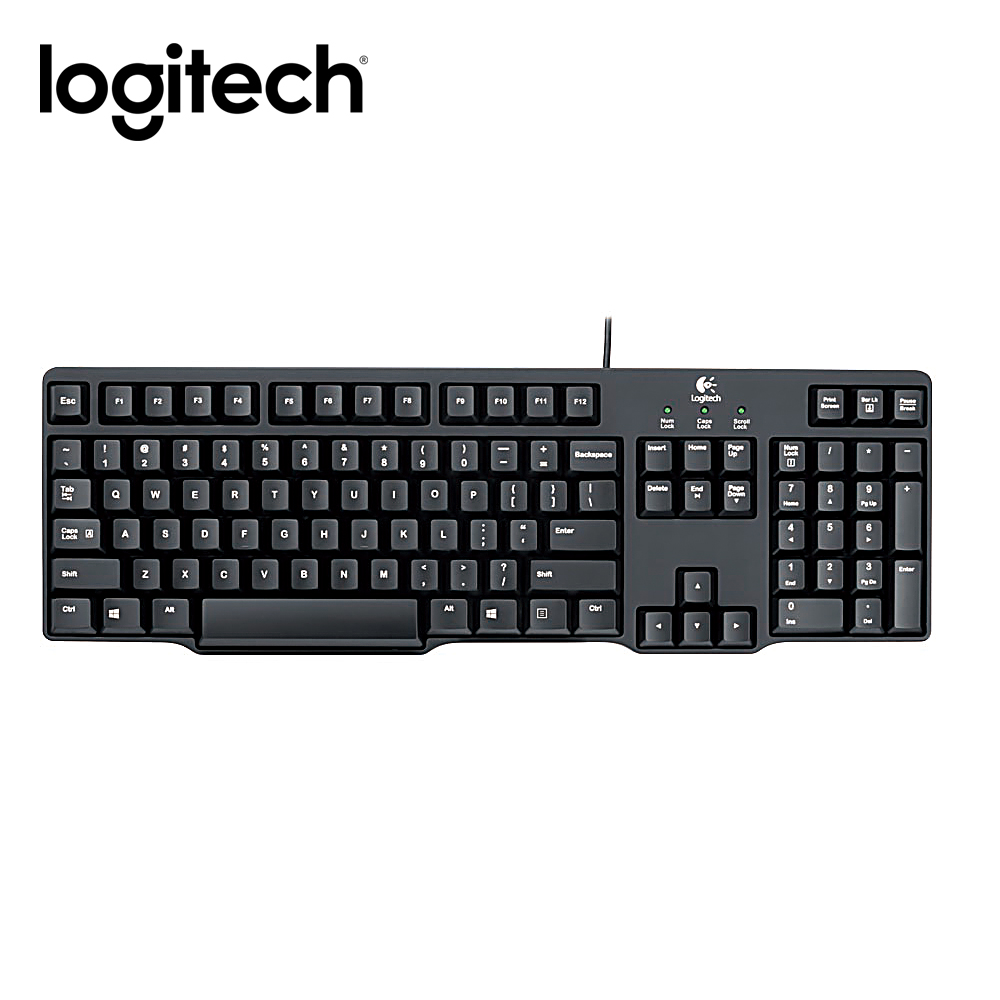keyboard: (26, 347, 943, 668)
